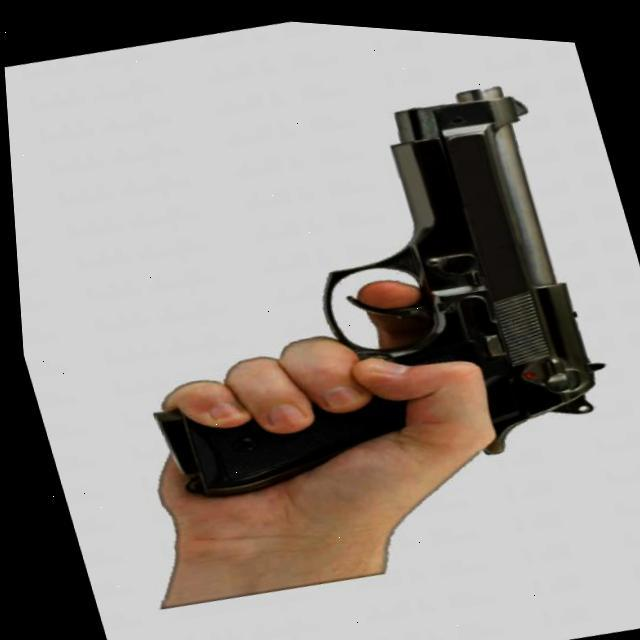gun: (72, 43, 626, 527)
